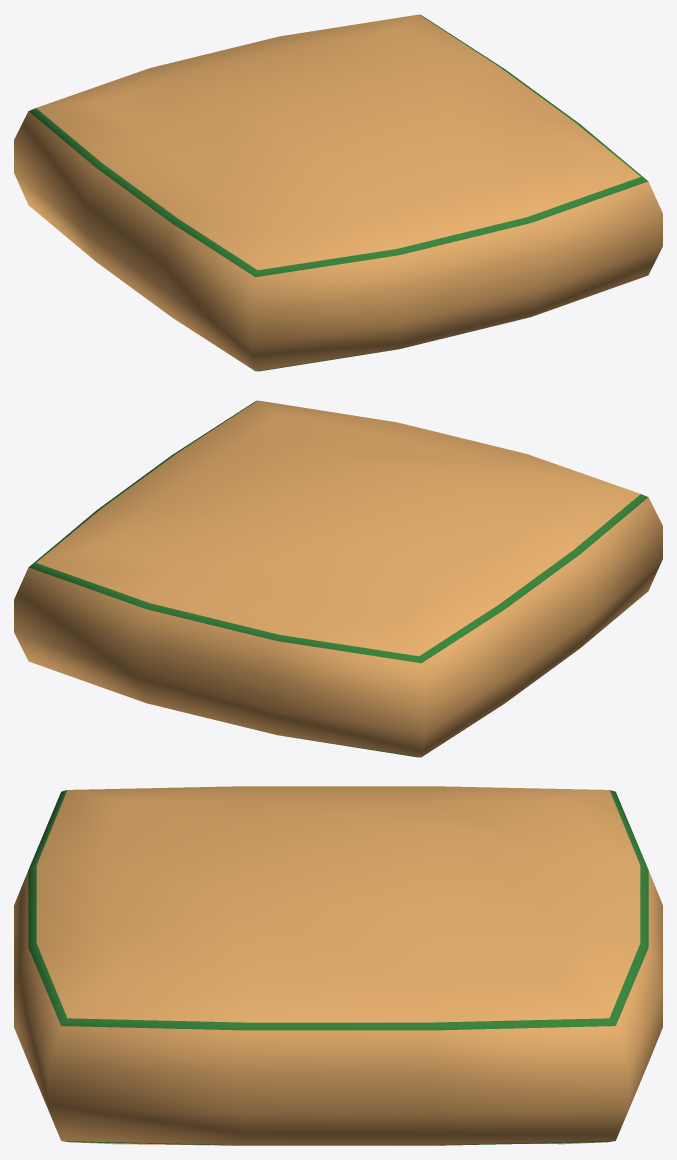
Rendered from pillowDecorative.fbx.
3 views of the same model, one above another, from view 1: azimuth 30°, elevation 25°; view 2: azimuth 150°, elevation 25°; view 3: azimuth 270°, elevation 25° (orthographic). The views are drawn at different scales.
Visible parts, largest first — view 1: Decorative Pillow; view 2: Decorative Pillow; view 3: Decorative Pillow.
Part boxes in pixels (x1,y1,x2,y2): Decorative Pillow: (14, 14, 662, 371); Decorative Pillow: (14, 400, 662, 757); Decorative Pillow: (14, 786, 662, 1145).
Size of the model in its own units: 91.4 by 98.48 by 34.94.
